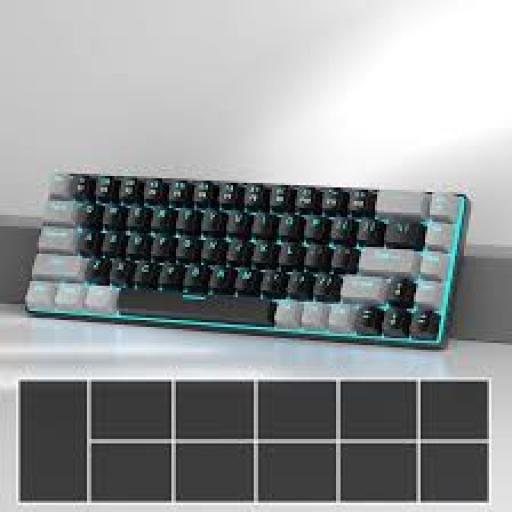KEYBOARD-2: (25, 171, 466, 345)
